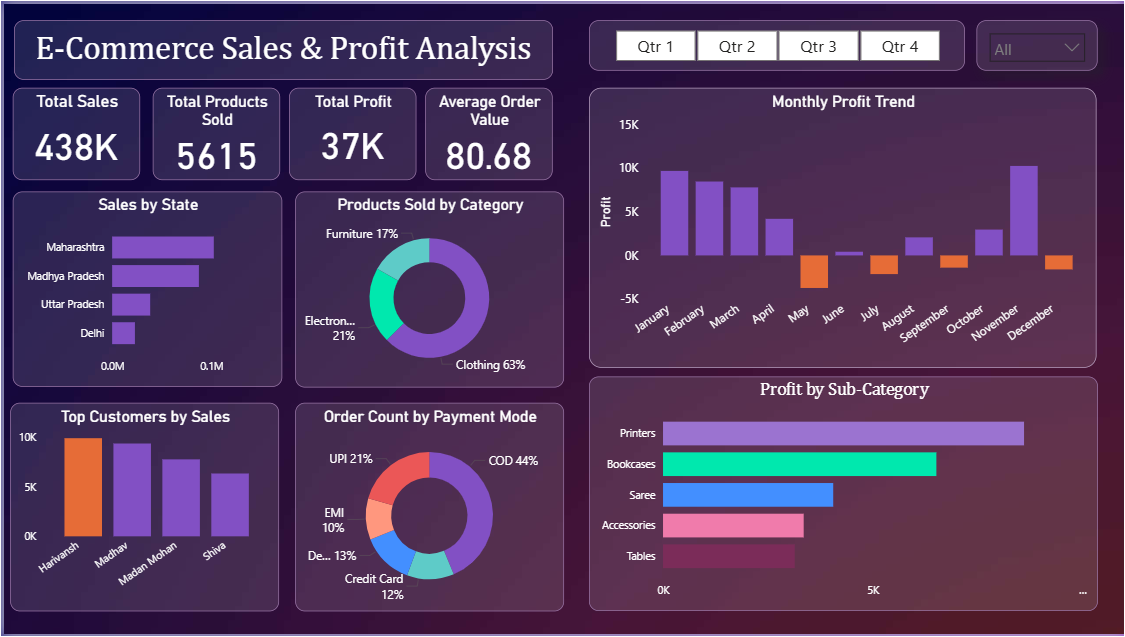

What the dashboard file says about the page in this screenshot:
{"tool":"powerbi","page":{"name":"Page 1","canvas":[1280,720],"ordinal":0},"visuals":[{"type":"clusteredColumnChart","title":"Monthly Profit Trend","fields":{"Category":["Orders.Order Date.Variation.Date Hierarchy.Month"],"Y":["Details.Profit"]},"box":[668,95.2,580,320.3],"z":1000},{"type":"barChart","title":"Profit by Sub-Category","fields":{"Y":["Details.Profit"],"Category":["Details.Sub-Category"]},"box":[668,425.6,581.4,268.4],"z":2000},{"type":"donutChart","title":"Products Sold by Category","fields":{"Category":["Details.Category"],"Y":["Details.Quantity"]},"box":[333.3,215,307.3,223.6],"z":3000},{"type":"donutChart","title":"Order Count by Payment Mode","fields":{"Y":["Details.Quantity"],"Series":["Details.PaymentMode"]},"box":[333.3,455.9,307.3,238.1],"z":4000},{"type":"card","title":"Total Sales","fields":{"Values":["Details.Amount"]},"box":[10.1,95.2,145.7,105.3],"z":5000},{"type":"card","title":"Total Products Sold","fields":{"Values":["Details.Quantity"]},"box":[170.2,95.2,145.7,105.3],"z":6000},{"type":"card","title":"Total Profit","fields":{"Values":["Details.Profit"]},"box":[326.1,95.2,145.7,105.3],"z":7000},{"type":"card","title":"\tAverage Order Value","fields":{"Values":["Details.AOV"]},"box":[481.9,95.2,145.7,105.3],"z":8000},{"type":"clusteredBarChart","title":"Sales by State","fields":{"Y":["Details.Amount"],"Category":["Orders.State"]},"box":[10.1,215,308,223],"z":9000},{"type":"clusteredColumnChart","title":"Top Customers by Sales","fields":{"Y":["Details.Amount"],"Category":["Orders.CustomerName"]},"box":[7.2,455.9,307.3,238.1],"z":10000},{"type":"slicer","fields":{"Values":["Orders.Order Date.Variation.Date Hierarchy.Quarter"]},"box":[668,18.8,429.9,57.7],"z":11000},{"type":"slicer","fields":{"Values":["Orders.State"]},"box":[1110.9,18.8,138.5,57.7],"z":12000},{"type":"textbox","box":[11.5,18.8,616.1,67.8],"z":12001}]}

Visuals, with their boxes in screenshot pixels (x1, y1, x2, y2), scaled from the page's 1280x720 canvas onto the 1125x637 screenshot:
"Monthly Profit Trend" clusteredColumnChart: l=587, t=84, r=1097, b=368
"Profit by Sub-Category" barChart: l=587, t=377, r=1098, b=614
"Products Sold by Category" donutChart: l=293, t=190, r=563, b=388
"Order Count by Payment Mode" donutChart: l=293, t=403, r=563, b=614
"Total Sales" card: l=9, t=84, r=137, b=177
"Total Products Sold" card: l=150, t=84, r=278, b=177
"Total Profit" card: l=287, t=84, r=415, b=177
"	Average Order Value" card: l=424, t=84, r=552, b=177
"Sales by State" clusteredBarChart: l=9, t=190, r=280, b=388
"Top Customers by Sales" clusteredColumnChart: l=6, t=403, r=276, b=614
slicer - Orders.Order Date.Variation.Date Hierarchy.Quarter: l=587, t=17, r=965, b=68
slicer - Orders.State: l=976, t=17, r=1098, b=68
textbox: l=10, t=17, r=552, b=77
